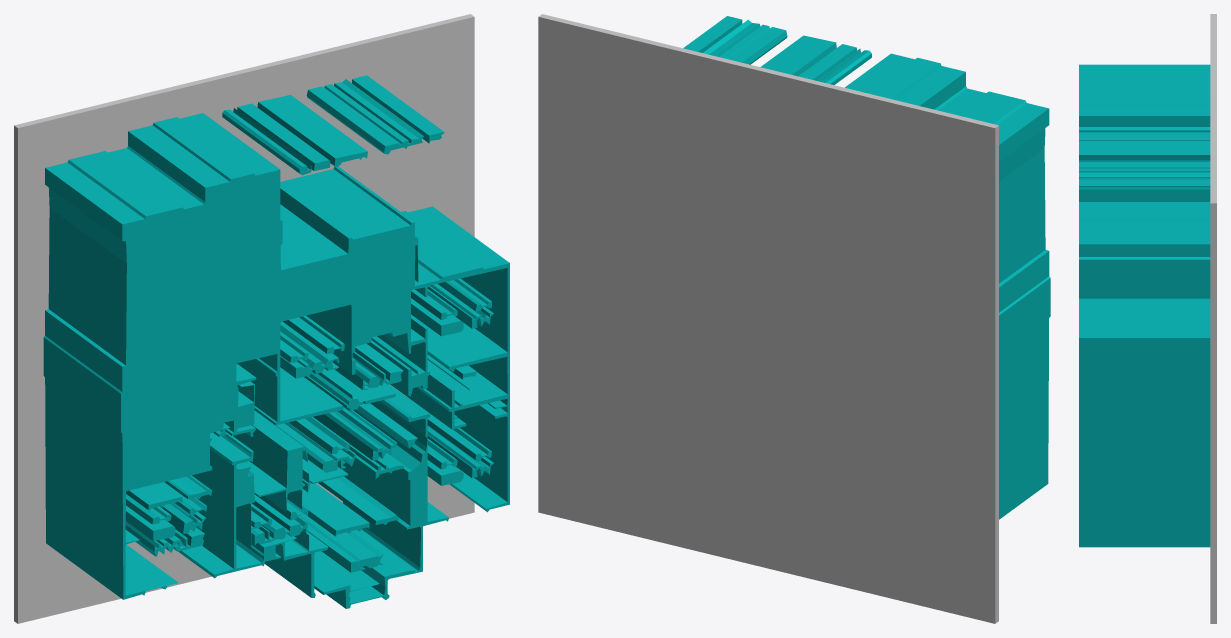
3 views of the same model, side by side, from view 1: azimuth 30°, elevation 25°; view 2: azimuth 150°, elevation 25°; view 3: azimuth 270°, elevation 25° (orthographic). The views are drawn at different scales.
Visible parts, largest first — view 1: world; view 2: world; view 3: world.
Boxes of the visible parts, left/top/right/bottom form: world: left=14, top=14, right=509, bottom=623; world: left=538, top=14, right=1050, bottom=623; world: left=1079, top=14, right=1216, bottom=623.
Bounding box in the file's own units: 10.23 × 10.61 × 3.15.
